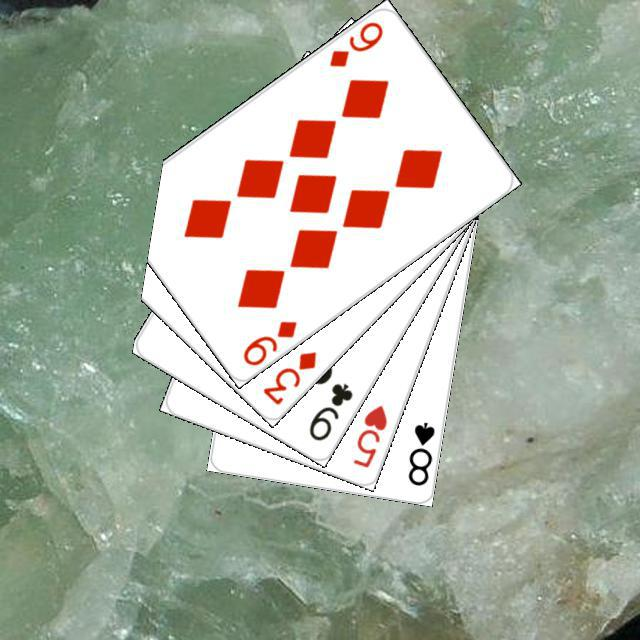3d: (257, 346, 319, 407)
5h: (348, 399, 389, 470)
8s: (403, 417, 437, 488)
9c: (303, 378, 355, 443)
9d: (237, 315, 299, 368), (324, 16, 385, 69)
